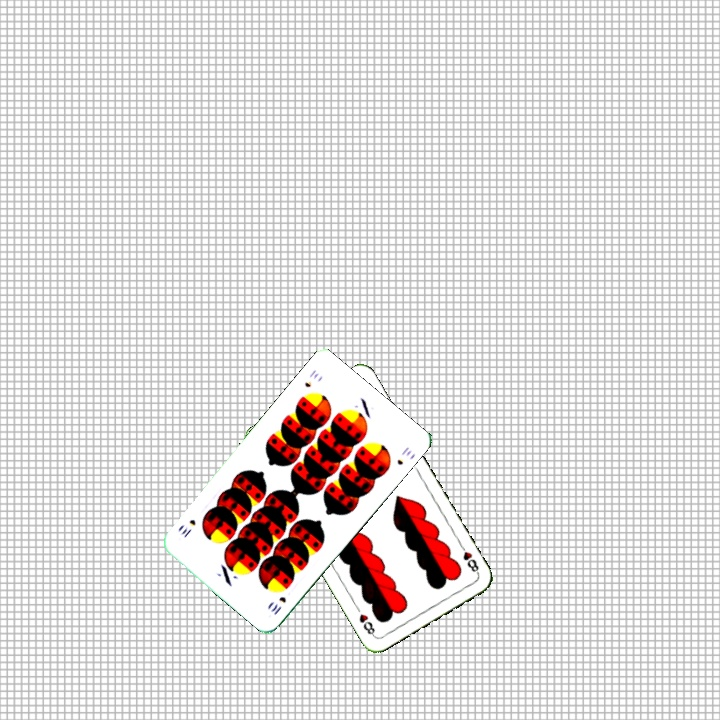H8: (455, 540, 482, 577)
S10: (267, 592, 289, 618), (301, 365, 321, 390)
